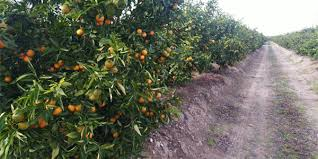orange: (95, 13, 105, 22), (104, 59, 113, 67)
